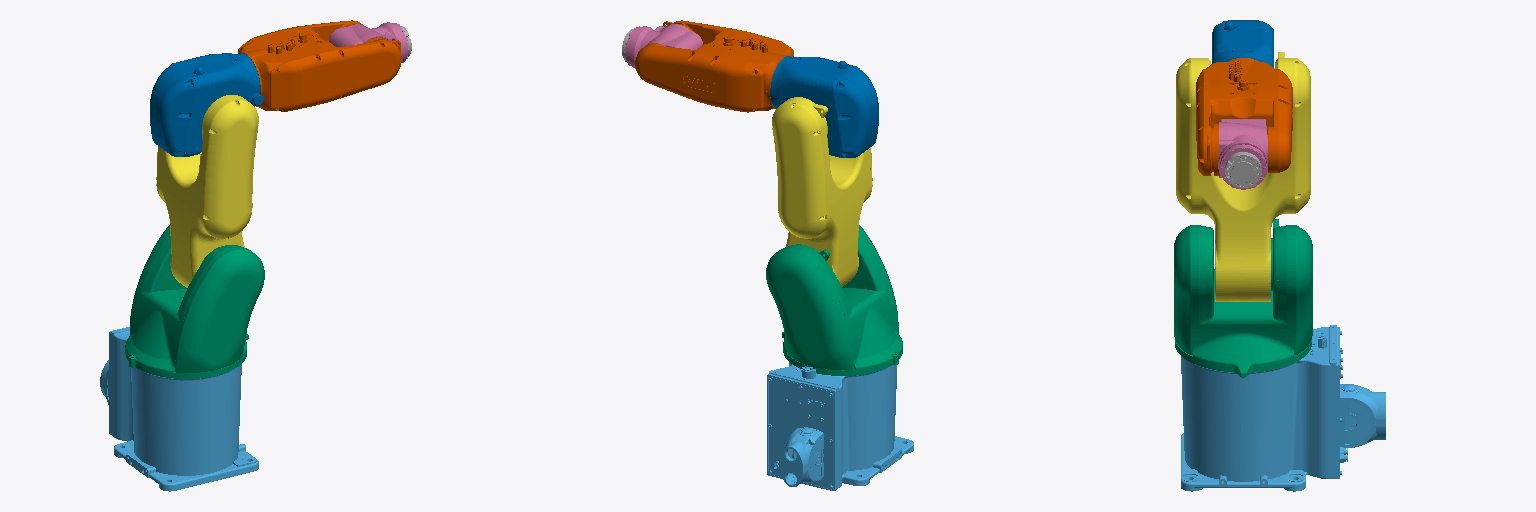
URDF robot description (er6-730-mi):
<?xml version="1.0" ?>
<robot name="er6-730-mi">
  <link name="base">
  </link>
  <joint name="base_fixed" type="fixed">
    <parent link="base"/>
    <child link="base_link"/>
    <origin rpy="0 0 0.0" xyz="0.0 0.0 0.0"/>
  </joint>
  <link name="base_link">
    <visual>
      <origin rpy="0 0 0" xyz="0.0 0.0 0.0"/>
      <geometry>
        <mesh filename="meshes/base_link.stl" />
      </geometry>
    </visual>
    <collision>
      <origin rpy="0 0 0" xyz="0.0 0.0 0.0"/>
      <geometry>
        <mesh filename="meshes/base_link.stl" />
      </geometry>
    </collision>
    <inertial>
      <mass value="4.0"/>
      <origin rpy="0 0 0" xyz="0.0 0.0 0.0"/>
      <inertia ixx="0.00443333156" ixy="0.0" ixz="0.0" iyy="0.00443333156" iyz="0.0" izz="0.0072"/>
    </inertial>
  </link>
  <joint name="Rev1" type="revolute">
    <parent link="base_link"/>
    <child link="second_link"/>
    <origin rpy="3.14159265359 0 0" xyz="0.0 0.0 0.203"/>
    <axis xyz="0 0 1"/>
    <limit effort="150.0" lower="-2.96705973 " upper="2.96705973 " velocity="3.15"/>
  </joint>
  <link name="second_link">
    <visual>
      <origin rpy="3.14159265359 0 0" xyz="0.0 0.0 0.203"/>
      <geometry>
        <mesh filename="meshes/ER6-730-2_1.stl" />
      </geometry>
    </visual>
    <collision>
      <origin rpy="3.14159265359 0 0" xyz="0.0 0.0 0.203"/>
      <geometry>
        <mesh filename="meshes/ER6-730-2_1.stl" />
      </geometry>
    </collision>
    <inertial>
      <mass value="3.7"/>
      <origin rpy="0 0 0" xyz="0.0 0.0 0.0"/>
      <inertia ixx="0.010267495893" ixy="0.0" ixz="0.0" iyy="0.010267495893" iyz="0.0" izz="0.00666"/>
    </inertial>
  </link>
  <joint name="Rev2" type="revolute">
    <parent link="second_link"/>
    <child link="third_link"/>
    <origin rpy="1.57079632679 0 0" xyz="0.055 0.0 -0.201"/>
    <axis xyz="0 0 1"/>
    <limit effort="150.0" lower="-1.3962634" upper="2.26892803" velocity="3.15"/>
  </joint>
  <link name="third_link">
    <visual>
      <origin rpy="1.57079632679 0 0" xyz="-0.055 0.404 0.0"/>
      <geometry>
        <mesh filename="meshes/ER6-730-3_1.stl" />
      </geometry>
    </visual>
    <collision>
      <origin rpy="1.57079632679 0 0" xyz="-0.055 0.404 0.0"/>
      <geometry>
        <mesh filename="meshes/ER6-730-3_1.stl" />
      </geometry>
    </collision>
    <inertial>
      <mass value="8.393"/>
      <origin rpy="0 0 0" xyz="0.0 0.0 0.2125"/>
      <inertia ixx="0.133885781862" ixy="0.0" ixz="0.0" iyy="0.133885781862" iyz="0.0" izz="0.0151074"/>
    </inertial>
  </link>
  <joint name="Rev3" type="revolute">
    <parent link="third_link"/>
    <child link="fourth_link"/>
    <origin rpy="0 0 -1.57079632679" xyz="0.0 -0.33 0.0"/>
    <axis xyz="0 0 1"/>
    <limit effort="150.0" lower="-3.31612558" upper="1.13446401" velocity="3.15"/>
  </joint>
  <link name="fourth_link">
    <visual>
      <origin rpy="1.57079632679 0 1.57079632679" xyz="-0.734 -0.055 0.0"/>
      <geometry>
        <mesh filename="meshes/ER6-730-4_1.stl" />
      </geometry>
    </visual>
    <collision>
      <origin rpy="1.57079632679 0 1.57079632679" xyz="-0.734 -0.055 0.0"/>
      <geometry>
        <mesh filename="meshes/ER6-730-4_1.stl" />
      </geometry>
    </collision>
    <inertial>
      <mass value="2.275"/>
      <origin rpy="0 0 0" xyz="0.0 0.0 0.196"/>
      <inertia ixx="0.0311796208615" ixy="0.0" ixz="0.0" iyy="0.0311796208615" iyz="0.0" izz="0.004095"/>
    </inertial>
  </link>
  <joint name="Rev4" type="revolute">
    <parent link="fourth_link"/>
    <child link="fifth_link"/>
    <origin rpy="1.57079632679 0 0" xyz="0.045 0.0 0.0"/>
    <axis xyz="0 0 1"/>
    <limit effort="150.0" lower="-2.96705973 " upper="2.96705973" velocity="3.15"/>
  </joint>
  <link name="fifth_link">
    <visual>
      <origin rpy="0 1.57079632679 0" xyz="-0.779 0.0 0.055"/>
      <geometry>
        <mesh filename="meshes/ER6-730-5_1.stl" />
      </geometry>
    </visual>
    <collision>
      <origin rpy="0 1.57079632679 0" xyz="-0.779 0.0 0.055"/>
      <geometry>
        <mesh filename="meshes/ER6-730-5_1.stl" />
      </geometry>
    </collision>
    <inertial>
      <mass value="1.219"/>
      <origin rpy="0 0 0" xyz="0.0 0.127 0.0"/>
      <inertia ixx="0.00255989897604" ixy="0.0" ixz="0.0" iyy="0.00255989897604" iyz="0.0" izz="0.0021942"/>
    </inertial>
  </link>
  <joint name="Rev5" type="revolute">
    <parent link="fifth_link"/>
    <child link="sixth_link"/>
    <origin rpy="-1.57079632679 0 0" xyz="0.0 0.0 -0.34"/>
    <axis xyz="0 0 1"/>
    <limit effort="150.0" lower="-2.26892803" upper="2.26892803" velocity="3.15"/>
  </joint>
  <link name="sixth_link">
    <visual>
      <origin rpy="1.57079632679 0 1.57079632679" xyz="-0.779 -0.395 0.0"/>
      <geometry>
        <mesh filename="meshes/ER6-730-05-1_1.stl" />
      </geometry>
    </visual>
    <collision>
      <origin rpy="1.57079632679 0 1.57079632679" xyz="-0.779 -0.395 0.0"/>
      <geometry>
        <mesh filename="meshes/ER6-730-05-1_1.stl" />
      </geometry>
    </collision>
    <inertial>
      <mass value="1.219"/>
      <origin rpy="0 0 0" xyz="0.0 0.0 0.1"/>
      <inertia ixx="0.00255989897604" ixy="0.0" ixz="0.0" iyy="0.00255989897604" iyz="0.0" izz="0.0021942"/>
    </inertial>
  </link>
  <joint name="Rev6" type="revolute">
    <parent link="sixth_link"/>
    <child link="seventh_link"/>
    <origin rpy="1.57079632679 0 0" xyz="0.0 0.0 0.0"/>
    <axis xyz="0 0 1"/>
    <limit effort="150.0" lower="-6.28318530718" upper="6.28318530718" velocity="3.15"/>
  </joint>
  <link name="seventh_link">
    <visual>
      <origin rpy="0.0 1.57079632679 0" xyz="-0.779 0.0 0.395"/>
      <geometry>
        <mesh filename="meshes/ER6-730-06_1.stl" />
      </geometry>
    </visual>
    <collision>
      <origin rpy="0.0 1.57079632679 0" xyz="-0.779 0.0 0.395"/>
      <geometry>
        <mesh filename="meshes/ER6-730-06_1.stl" />
      </geometry>
    </collision>
    <inertial>
      <mass value="0.1879"/>
      <origin rpy="1.57079632679 0 0" xyz="0.0 0.0771 0.0"/>
      <inertia ixx="9.89041005217e-05" ixy="0.0" ixz="0.0" iyy="9.89041005217e-05" iyz="0.0" izz="0.0001321171875"/>
    </inertial>
  </link>
  <joint name="ee_fixed_joint" type="fixed">
    <parent link="seventh_link"/>
    <child link="ee_link"/>
    <origin rpy="3.14159265359 0.0 0.0" xyz="0.00092 0.0 -0.08682"/>
  </joint>
  <link name="ee_link">
    <collision>
      <geometry>
        <box size="0.01 0.01 0.01"/>
      </geometry>
      <origin rpy="0 0 0" xyz="-0.01 0 0"/>
    </collision>
  </link>
</robot>

--- Facts derived from the render (not from the file) ---
3 views of the same robot in one strip: view 1: azimuth 30°, elevation 25°; view 2: azimuth 150°, elevation 25°; view 3: azimuth 270°, elevation 25° (orthographic).
Model er6-730-mi with 9 links and 8 joints (6 revolute, 2 fixed), rooted at base, posed every joint at zero.
Visible links, largest first — view 1: base_link, second_link, third_link, fifth_link, fourth_link, sixth_link; view 2: base_link, second_link, third_link, fifth_link, fourth_link, sixth_link; view 3: base_link, second_link, third_link, fifth_link, fourth_link, sixth_link, seventh_link.
Link boxes in pixels (bbox=[...]): base_link: bbox=[100, 327, 258, 491]; second_link: bbox=[125, 225, 264, 378]; third_link: bbox=[156, 95, 258, 287]; fifth_link: bbox=[238, 20, 401, 111]; fourth_link: bbox=[150, 53, 263, 156]; sixth_link: bbox=[329, 22, 408, 62]; base_link: bbox=[767, 362, 913, 490]; second_link: bbox=[766, 225, 902, 375]; third_link: bbox=[772, 97, 872, 286]; fifth_link: bbox=[635, 20, 793, 112]; fourth_link: bbox=[770, 56, 878, 157]; sixth_link: bbox=[624, 24, 702, 68]; base_link: bbox=[1181, 325, 1385, 491]; second_link: bbox=[1174, 219, 1312, 377]; third_link: bbox=[1176, 52, 1310, 301]; fifth_link: bbox=[1196, 58, 1292, 175]; fourth_link: bbox=[1212, 20, 1273, 67]; sixth_link: bbox=[1218, 119, 1267, 189]; seventh_link: bbox=[1225, 152, 1261, 187].
Size in the robot's own frame: 0.612 by 0.3634 by 0.847 metres.
Meshes: 7 distinct files referenced, 7 mesh visuals loaded (7 binary STL).
